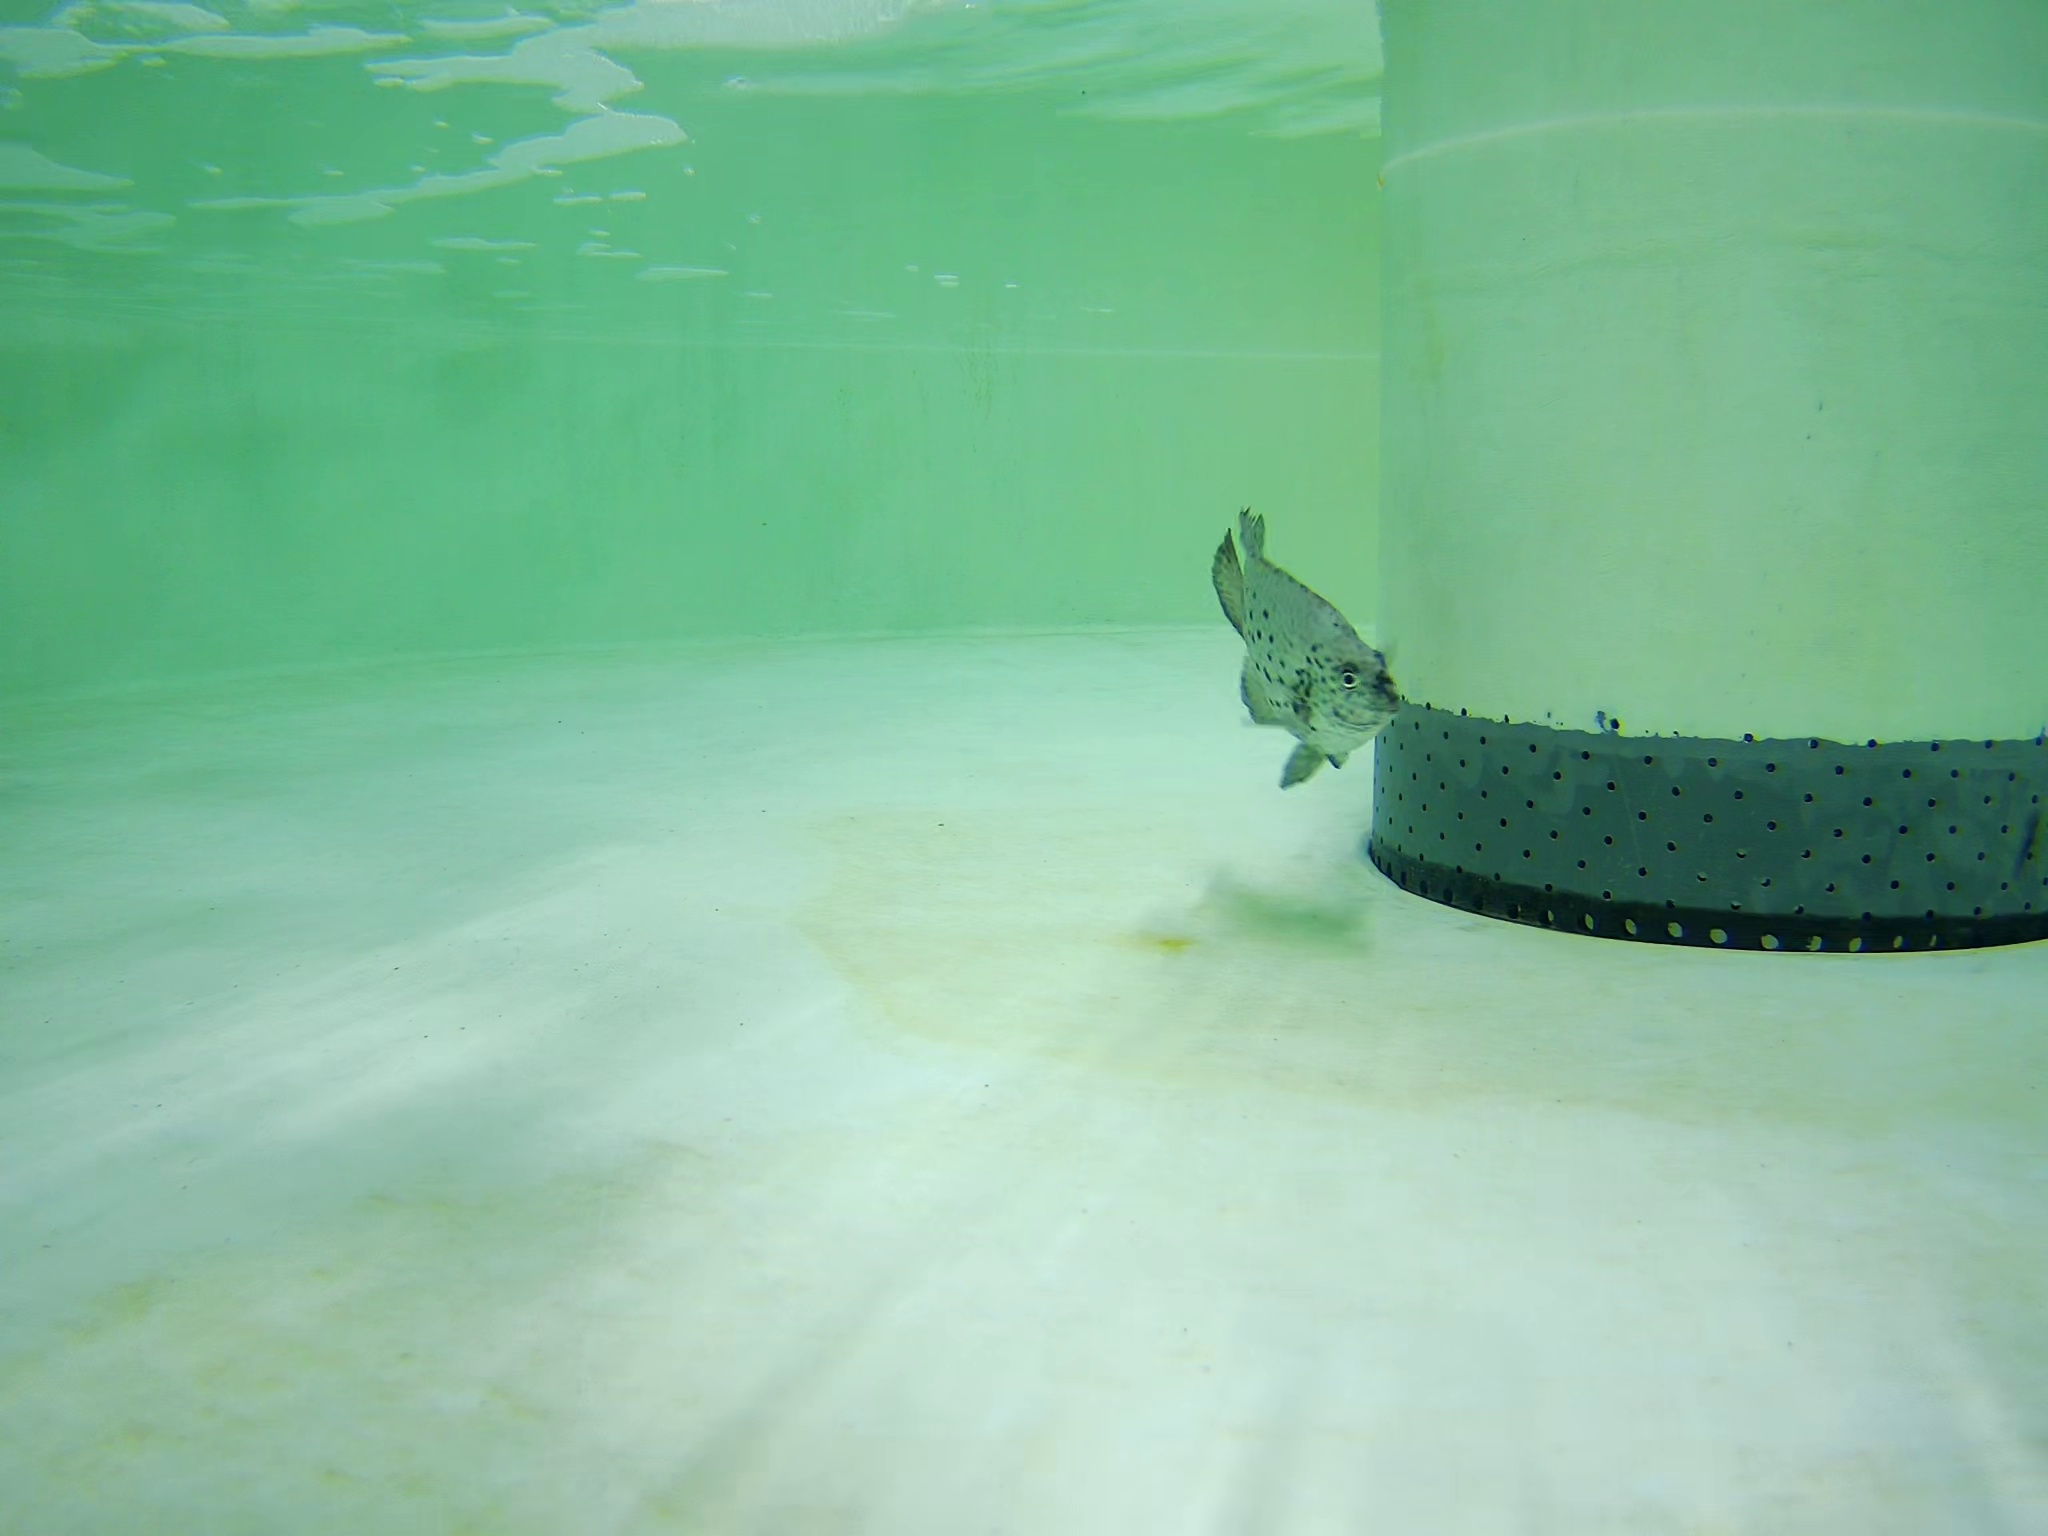fish: (1197, 518, 1403, 781)
